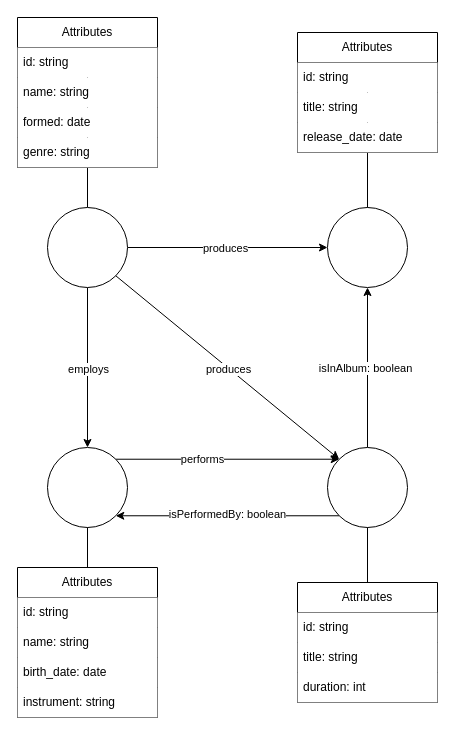
The diagram is 455 pixels wide and 735 high, and some of its shapes have lost their labels. Here are the shapes that lost their labels. From the top down, the centre of each, then its label:
At (x=87, y=247): "Band".
At (x=367, y=247): "Album".
At (x=87, y=487): "Musician".
At (x=367, y=487): "Song".
